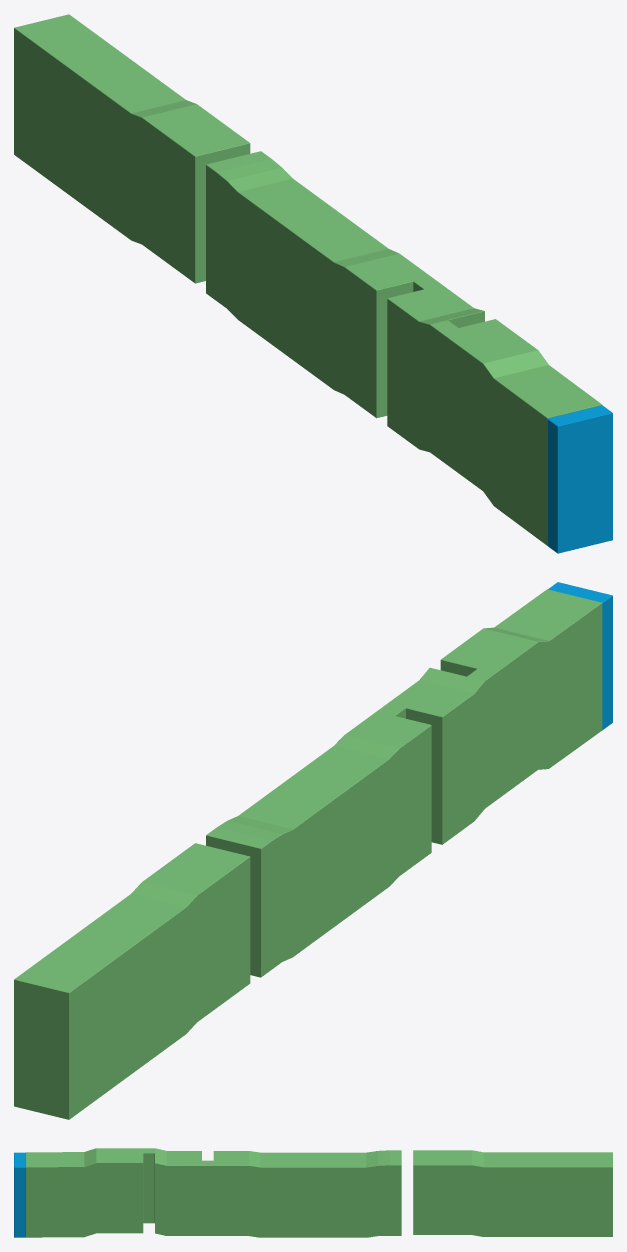
File: terrain_new.fbx
3 views of the same model, one above another, from view 1: azimuth 30°, elevation 25°; view 2: azimuth 150°, elevation 25°; view 3: azimuth 270°, elevation 25° (orthographic). The views are drawn at different scales.
Parts seen in each view (by area): view 1: terrain1, water; view 2: terrain1, water; view 3: terrain1, water.
Part boxes in pixels (box(x1,y1,x2,y2)): terrain1: box(14, 14, 601, 545); water: box(547, 405, 612, 553); terrain1: box(14, 589, 602, 1119); water: box(548, 582, 612, 730); terrain1: box(25, 1148, 612, 1237); water: box(14, 1152, 25, 1237).
Bounding box in the file's own units: 30.01 × 70.37 × 510.
